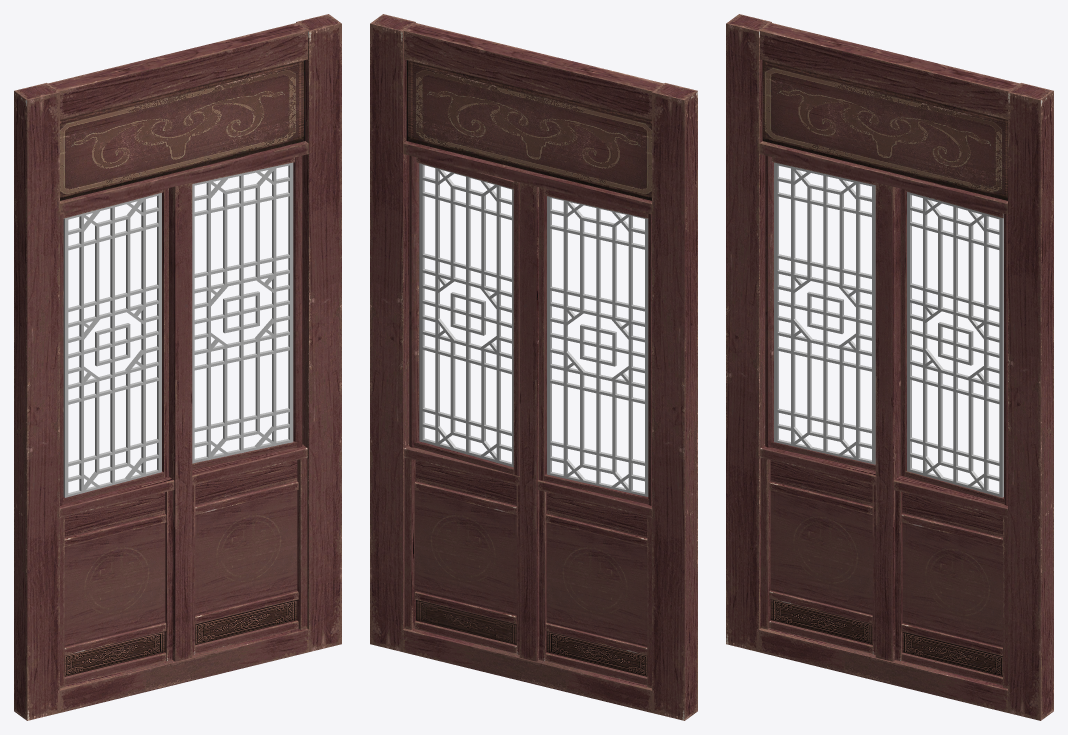
Rendered from WindowsAndGate_1.fbx.
3 renders of one model, left to right at view 1: azimuth 30°, elevation 25°; view 2: azimuth 150°, elevation 25°; view 3: azimuth 330°, elevation 25°, orthographic.
Visible parts, largest first — view 1: 3D_WindowsAndGate3.mo; view 2: 3D_WindowsAndGate3.mo; view 3: 3D_WindowsAndGate3.mo.
Boxes of the visible parts, x1=… form: 3D_WindowsAndGate3.mo: x1=14, y1=14, x2=341, y2=720; 3D_WindowsAndGate3.mo: x1=370, y1=14, x2=697, y2=720; 3D_WindowsAndGate3.mo: x1=726, y1=14, x2=1053, y2=720.
Size of the model in its own units: 224 by 422 by 16.26.
